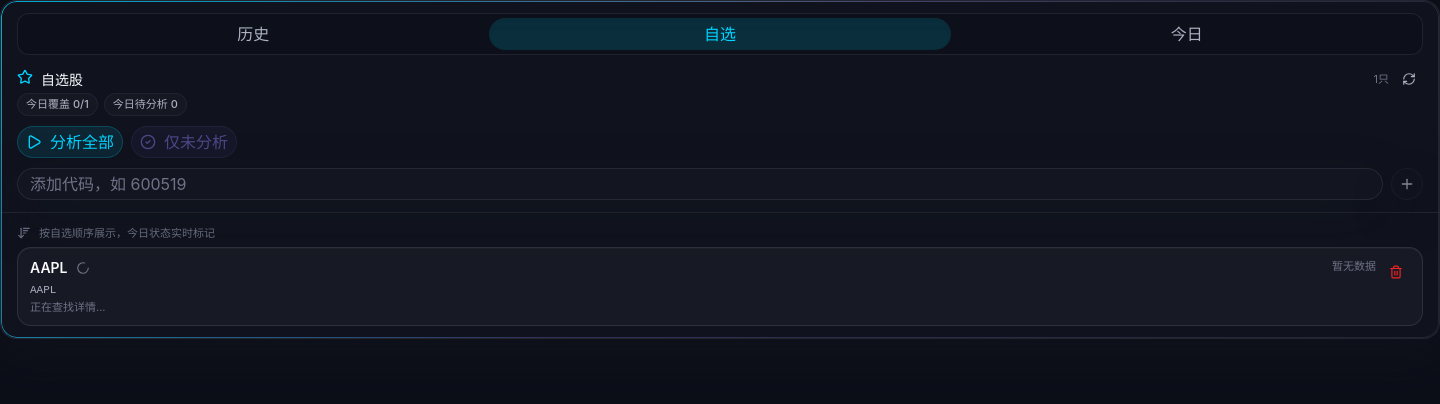
it: HomeStockWorkspace › shows loading feedback instead of no-detail copy while latest detail lookup is still pending
What coordinates should you click on to do the following:
click the button with aria-label "正在查找 AAPL 的最新分析详情"
I would click on:
 (49, 268)
Its box is [30,258,1324,315].
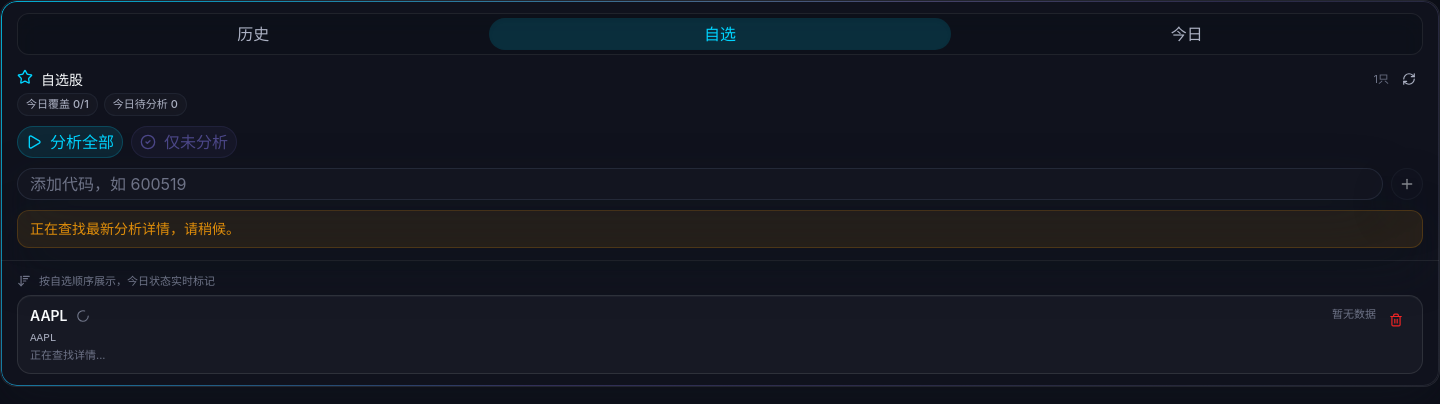
expect the text "正在查找详情..." is shown: met, box [30,346,106,363]
expect the message reads "正在查找最新分析详情，请稍候。": met, box [30,220,240,236]
